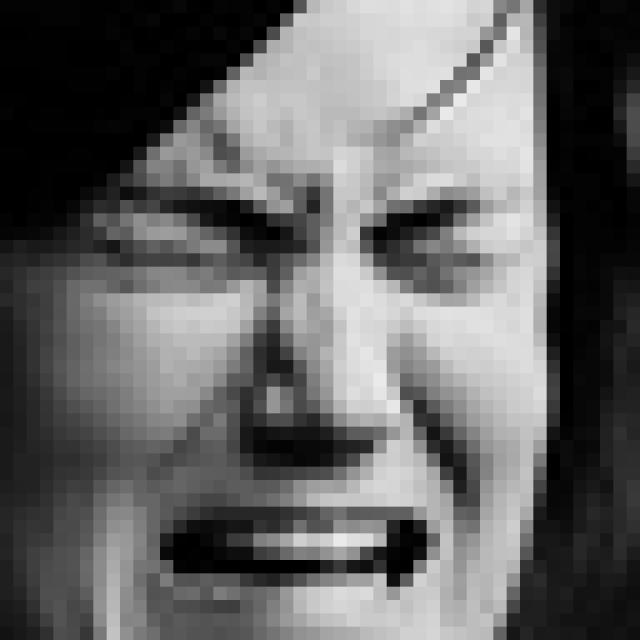disgust: (88, 181, 540, 614)
